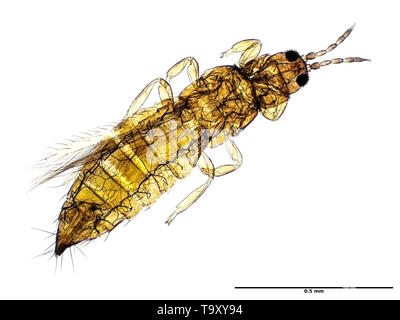Thripidae: (33, 22, 371, 277)
